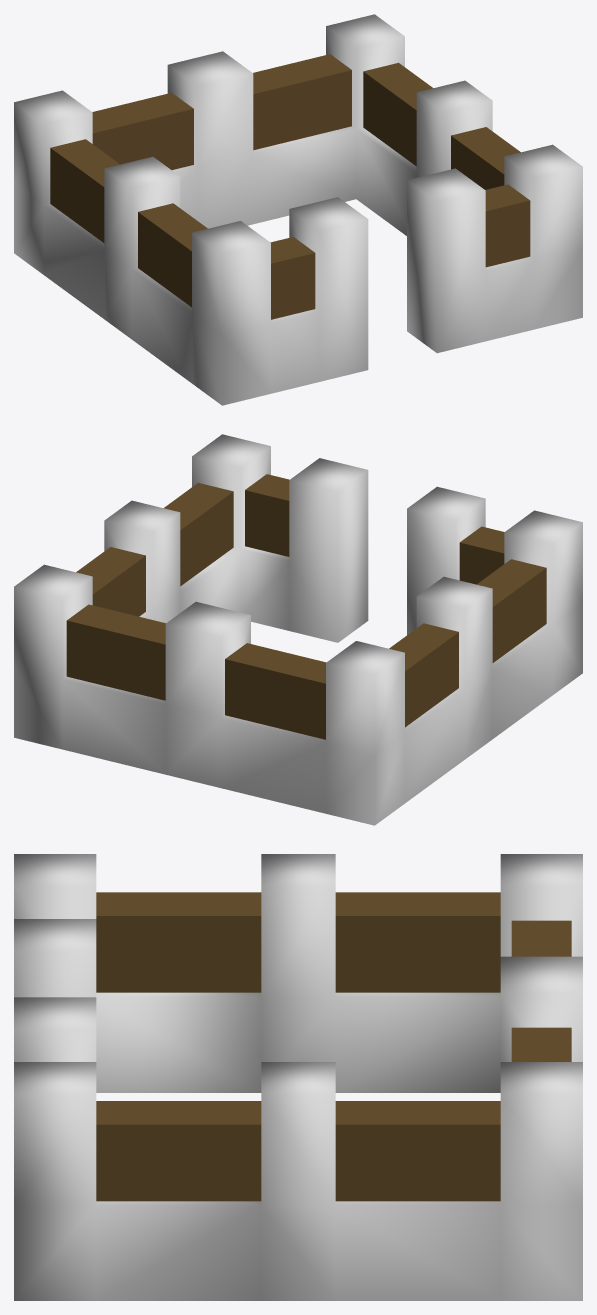
The model's file is insaAlani.fbx.
3 views of the same model, one above another, from view 1: azimuth 30°, elevation 25°; view 2: azimuth 150°, elevation 25°; view 3: azimuth 270°, elevation 25° (orthographic). The views are drawn at different scales.
Parts seen in each view (by area): view 1: insaAlan; view 2: insaAlan; view 3: insaAlan.
Boxes of the visible parts, box(x1,y1,x2,y2) form: insaAlan: box(14, 14, 582, 405); insaAlan: box(14, 434, 582, 825); insaAlan: box(14, 854, 582, 1300).
Size of the model in its own units: 500 by 200 by 500.
